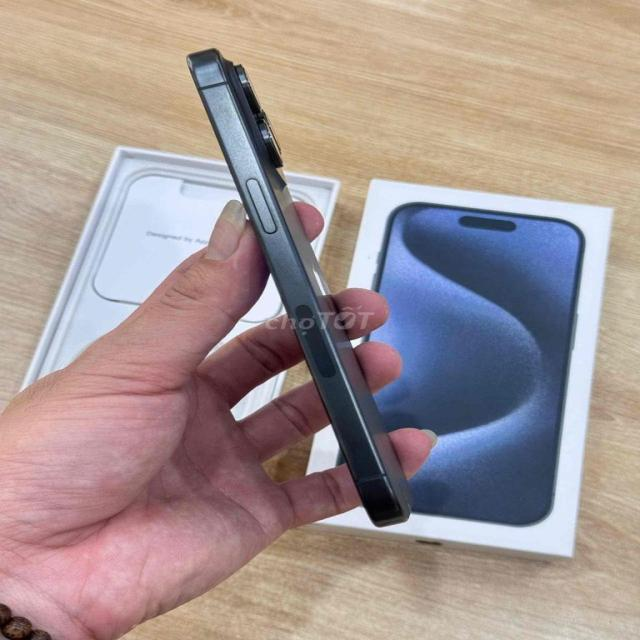gen_15: (175, 41, 453, 552)
